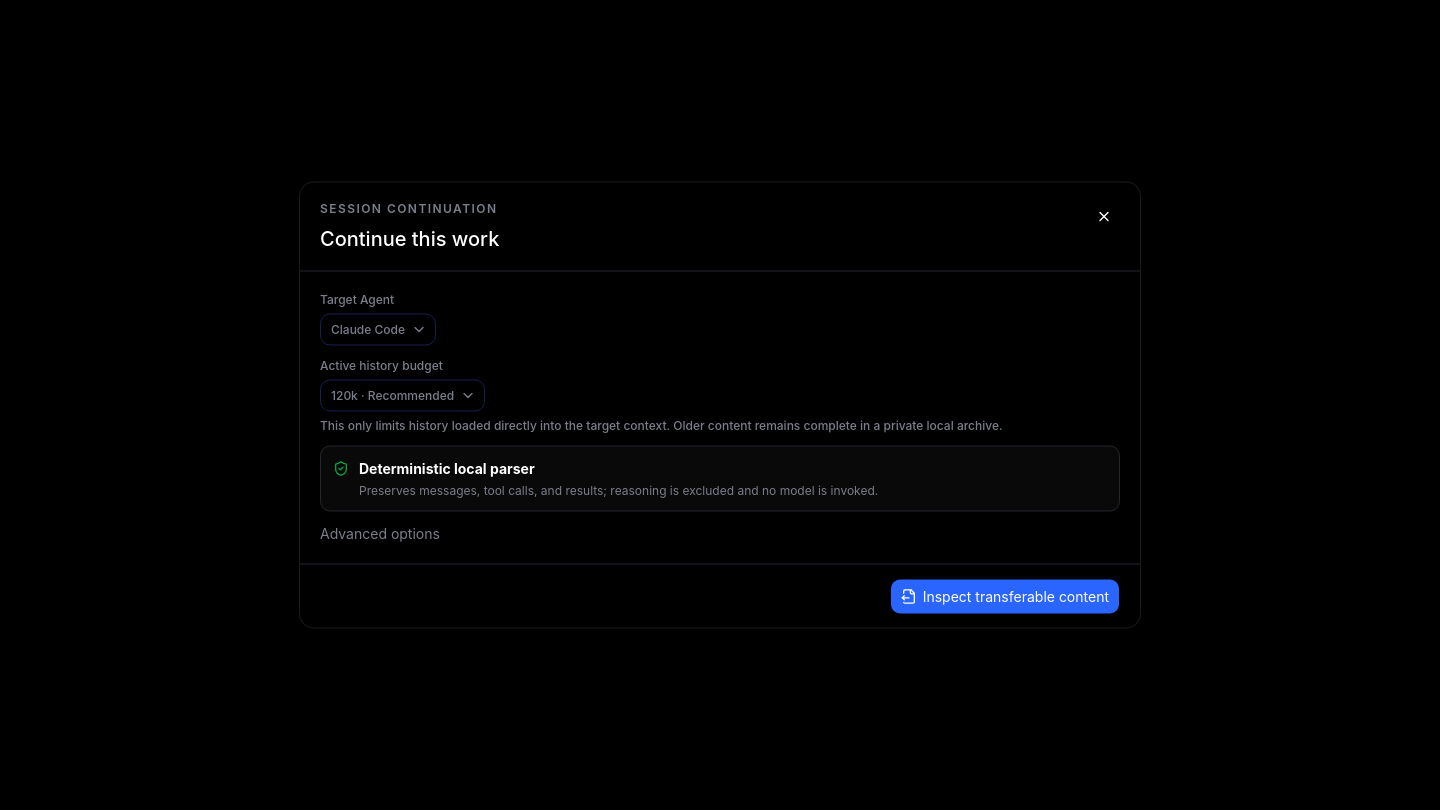
Scenario: SessionHandoffDialog › treats excluded reasoning as privacy information without requiring acknowledgement
The width and height of the screenshot is (1440, 810).
Click the button "Inspect transferable content" at x=1005, y=596, box [890,578,1120,614]
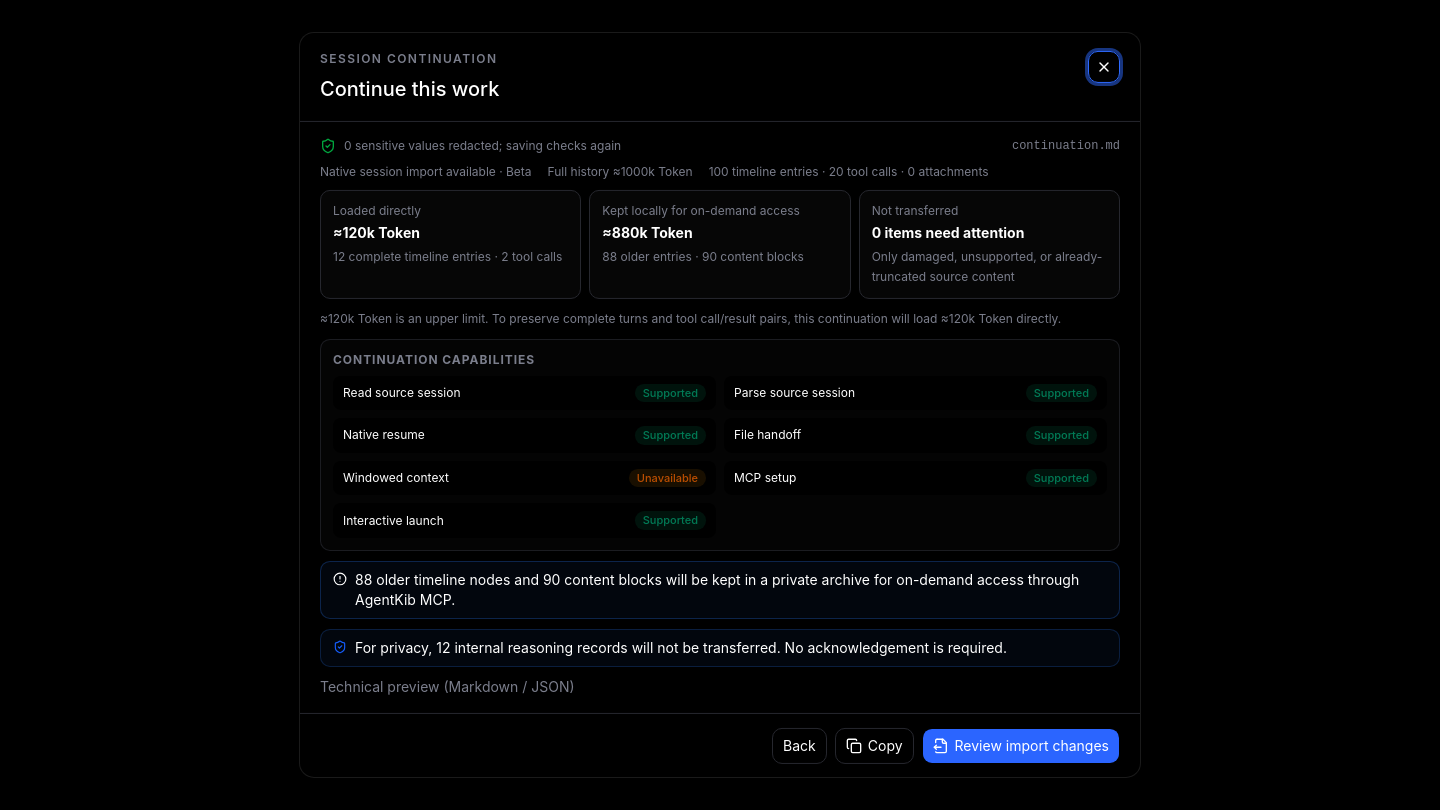
Now the text "For privacy, 12 internal reasoning records" is shown, box [355,639,1007,656]
Now the button "Review import changes" is enabled, box [922,728,1120,764]
